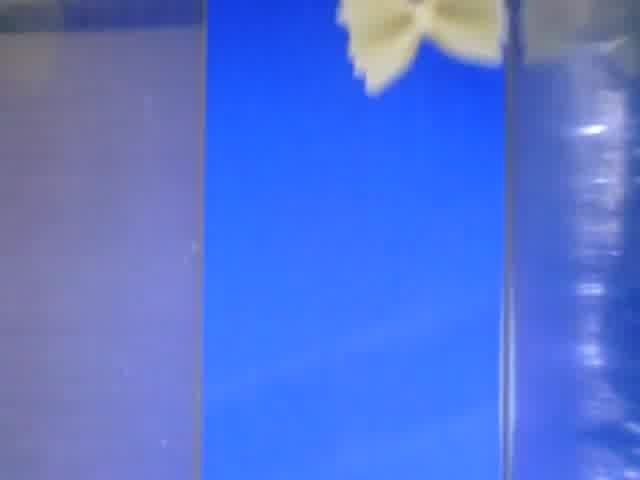farfalle: (336, 1, 507, 98)
